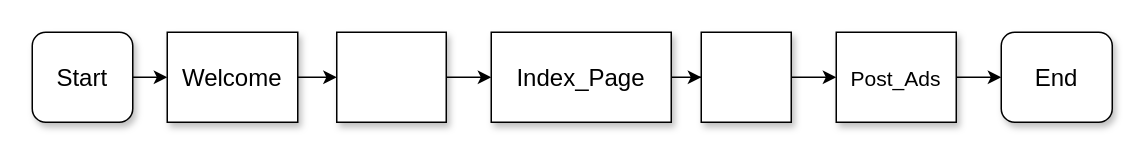
This 1148x159 diagram has some shape labels left out. Each missing label, with the centre of its shape:
"Login" goes at pixel 392 79.
"Think (5s)" goes at pixel 747 79.
